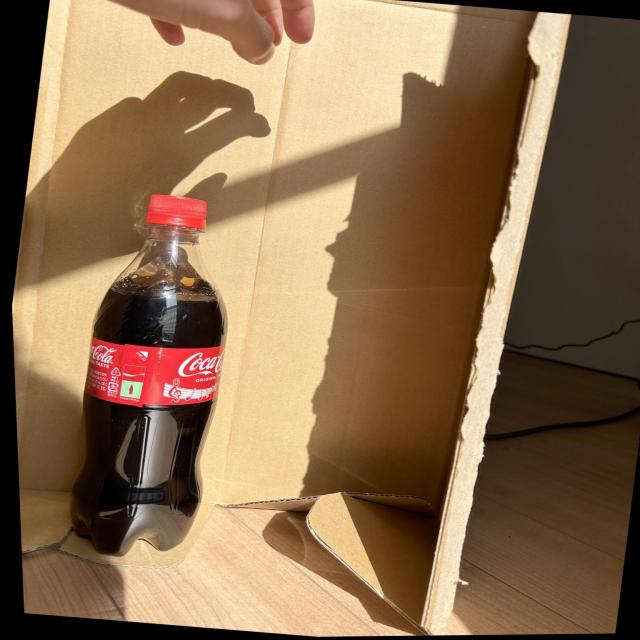high: (70, 194, 227, 556)
